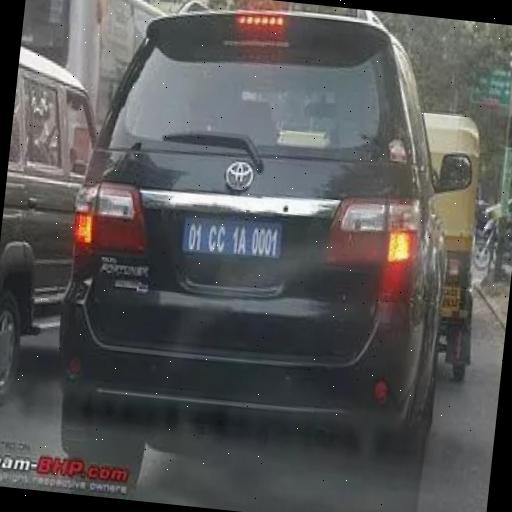number plate: (182, 214, 286, 261)
